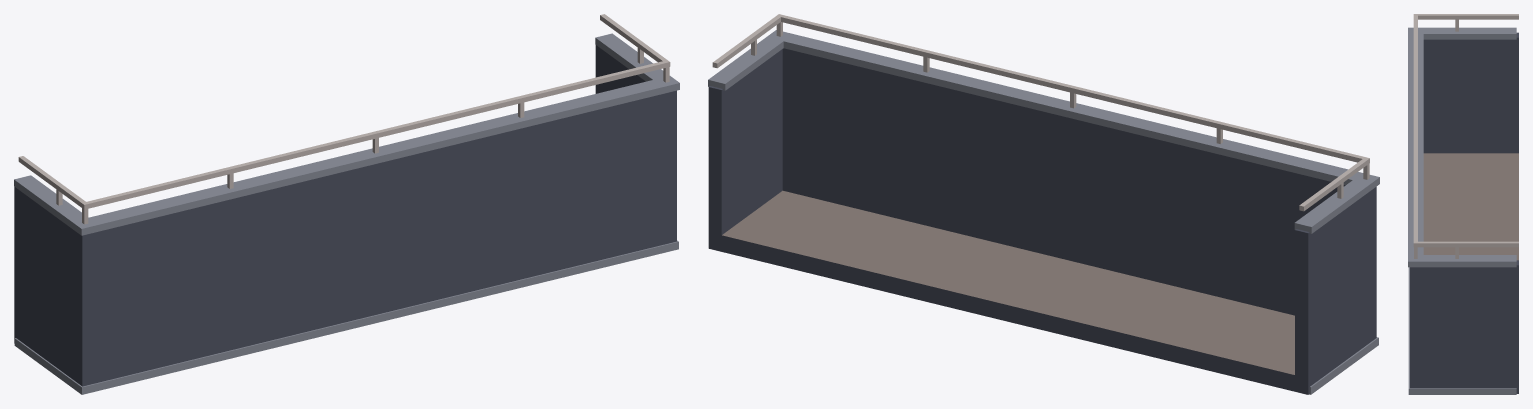
Rendered from SM_Fixture_BalconyFull_Charcoal_455_01.gltf.
3 views of the same model, side by side, from view 1: azimuth 30°, elevation 25°; view 2: azimuth 150°, elevation 25°; view 3: azimuth 270°, elevation 25° (orthographic). The views are drawn at different scales.
Parts seen in each view (by area): view 1: SM_Fixture_BalconyFull_Charcoal_455_01; view 2: SM_Fixture_BalconyFull_Charcoal_455_01; view 3: SM_Fixture_BalconyFull_Charcoal_455_01.
Boxes of the visible parts, <box> form: SM_Fixture_BalconyFull_Charcoal_455_01: <box>14,14,679,394</box>; SM_Fixture_BalconyFull_Charcoal_455_01: <box>708,14,1379,394</box>; SM_Fixture_BalconyFull_Charcoal_455_01: <box>1408,14,1518,394</box>.
Bounding box in the file's own units: 4.57 × 1.36 × 0.915.
Materials: 1 (1 with a texture image).
